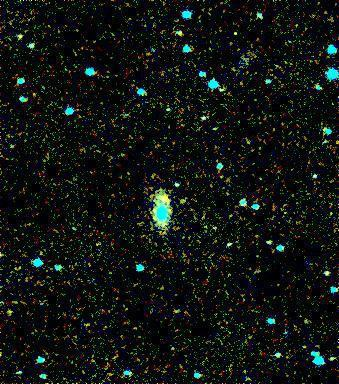star: (151, 185, 181, 215)
